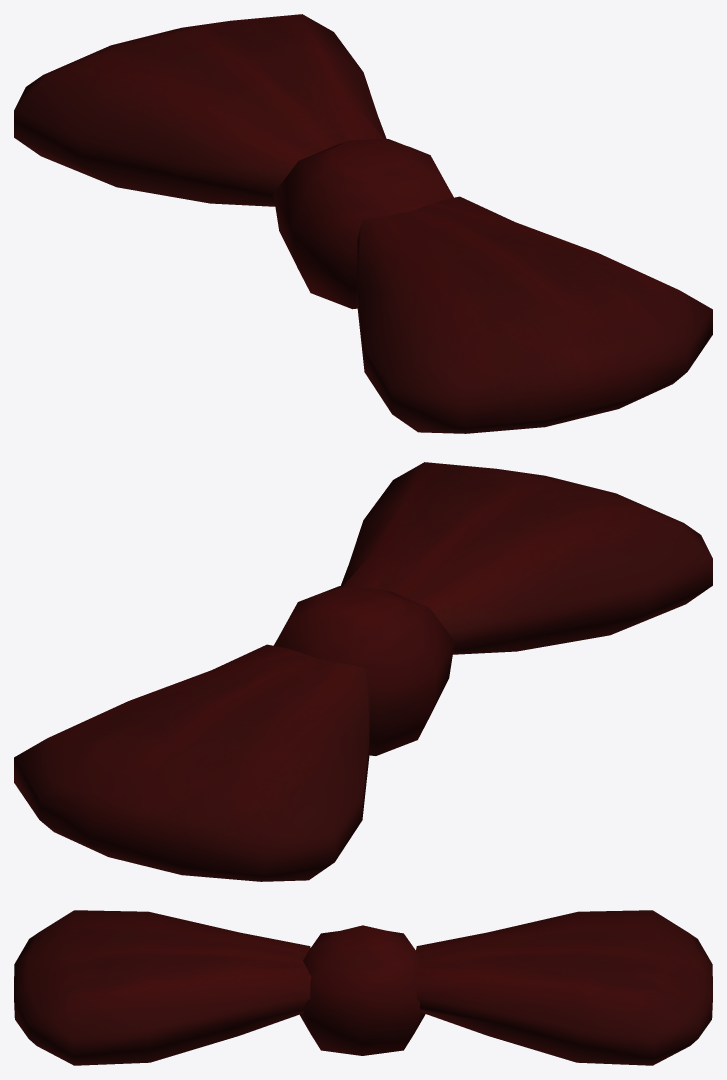
The model's file is Bowtie.fbx.
3 renders of one model, top to bottom at view 1: azimuth 30°, elevation 25°; view 2: azimuth 150°, elevation 25°; view 3: azimuth 270°, elevation 25°, orthographic. The views are drawn at different scales.
Visible parts, largest first — view 1: BowTieWing1, BowTieWing2, BowTieCentre; view 2: BowTieWing2, BowTieWing1, BowTieCentre; view 3: BowTieWing2, BowTieWing1, BowTieCentre.
Part boxes in pixels (bbox=[...]): BowTieWing1: bbox=[357, 196, 712, 433]; BowTieWing2: bbox=[14, 14, 386, 206]; BowTieCentre: bbox=[273, 139, 453, 309]; BowTieWing2: bbox=[14, 644, 369, 881]; BowTieWing1: bbox=[341, 462, 712, 654]; BowTieCentre: bbox=[273, 586, 454, 755]; BowTieWing2: bbox=[415, 910, 712, 1065]; BowTieWing1: bbox=[14, 910, 311, 1065]; BowTieCentre: bbox=[300, 925, 425, 1055].
Bounding box in the file's own units: 2.67 × 1.09 × 6.59.
